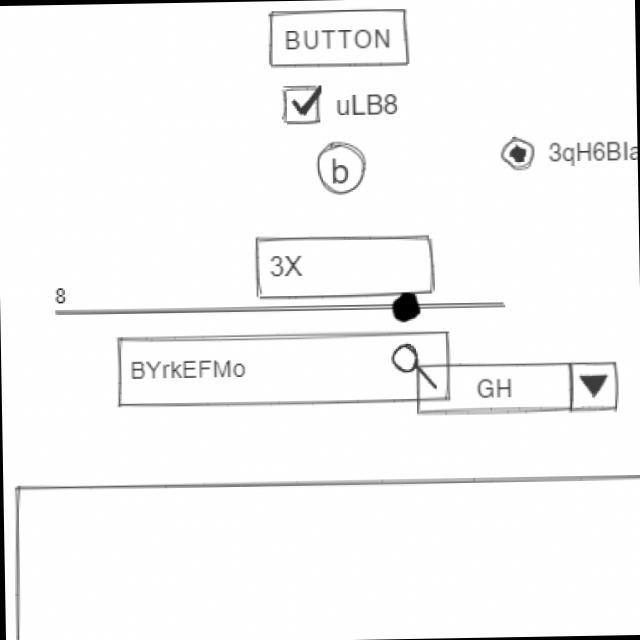button: (265, 5, 413, 72)
checkbox: (278, 78, 399, 128)
container: (12, 468, 640, 640)
icon-button: (314, 138, 370, 196)
input: (251, 230, 437, 300)
radio: (497, 131, 638, 172)
search: (114, 328, 455, 408)
select: (412, 357, 621, 419)
slider: (74, 288, 510, 329)
